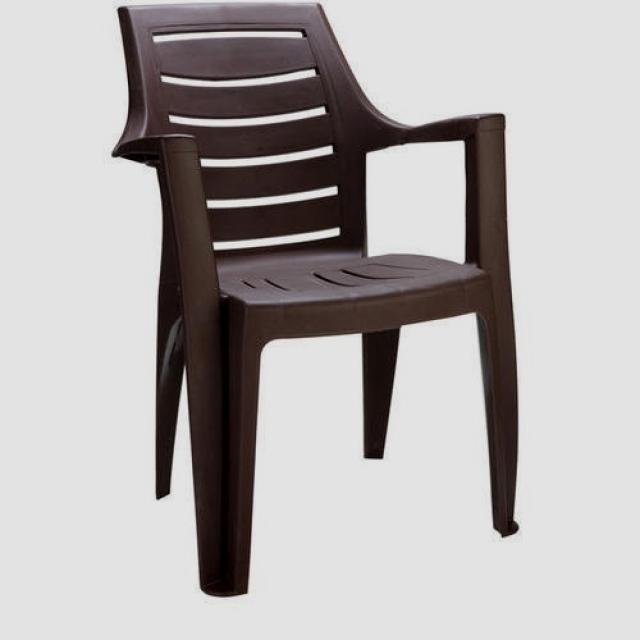Chair: (111, 5, 531, 604)
